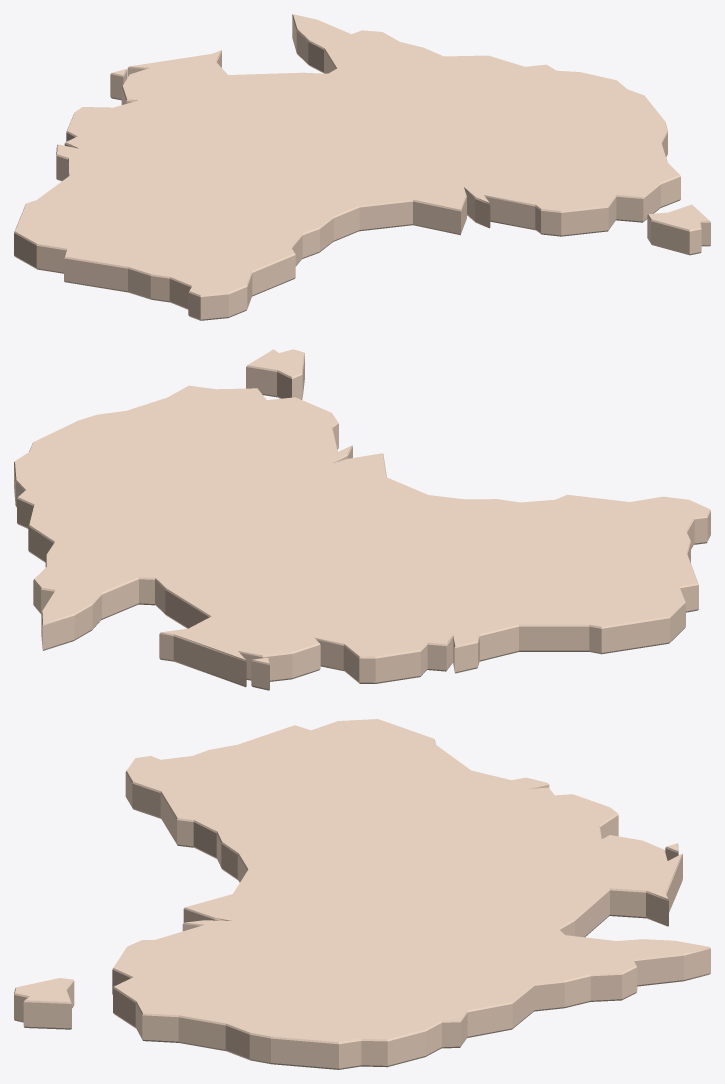
File: AUS.glb
3 renders of one model, top to bottom at view 1: azimuth 30°, elevation 25°; view 2: azimuth 150°, elevation 25°; view 3: azimuth 270°, elevation 25°, orthographic. The views are drawn at different scales.
Size of the model in its own units: 1.71 by 0.068 by 1.55.
